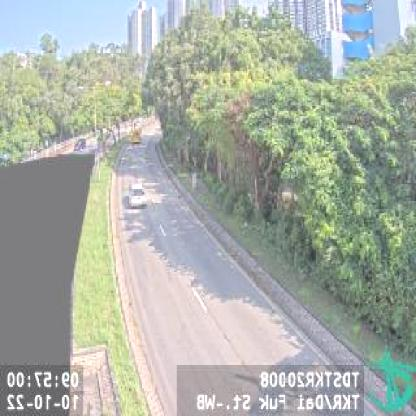Car: (127, 184, 146, 208)
